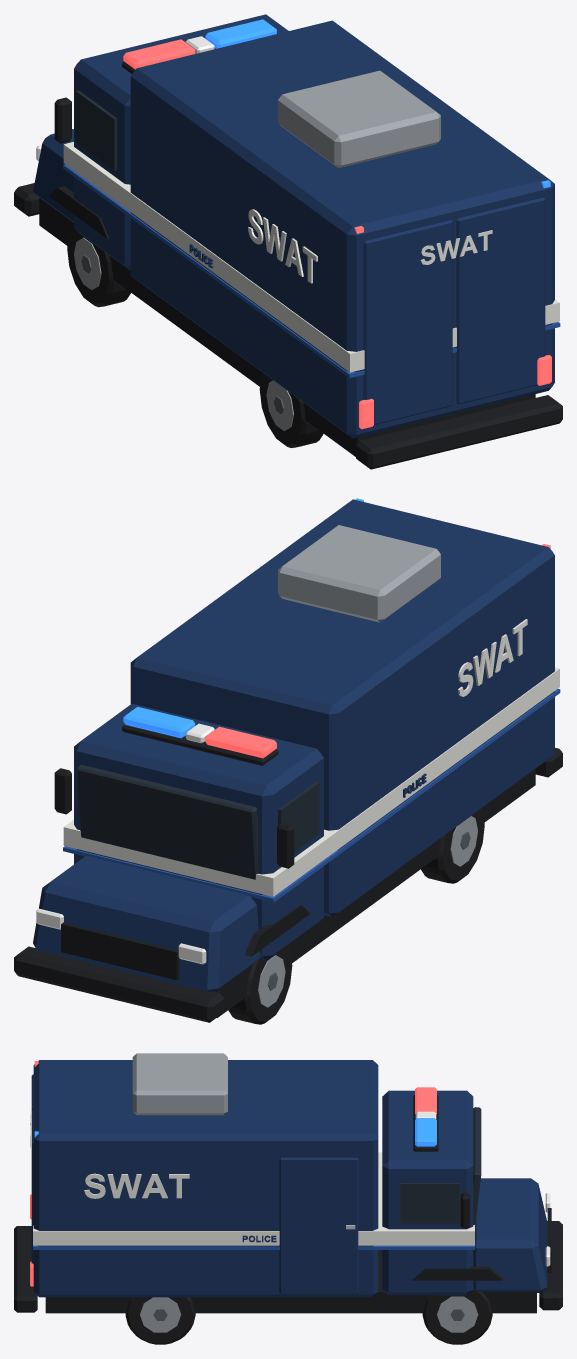
File: PD_SWAT_Van.fbx
3 views of the same model, one above another, from view 1: azimuth 30°, elevation 25°; view 2: azimuth 150°, elevation 25°; view 3: azimuth 270°, elevation 25° (orthographic). The views are drawn at different scales.
Visible parts, largest first — view 1: PD_SWAT_Van_Body, PD_SWAT_Van_Wheel_FL, PD_SWAT_Van_Wheel_RL; view 2: PD_SWAT_Van_Body, PD_SWAT_Van_Wheel_FL, PD_SWAT_Van_Wheel_RL; view 3: PD_SWAT_Van_Body, PD_SWAT_Van_Wheel_FR, PD_SWAT_Van_Wheel_RR.
Part boxes in pixels (left/top/right/bottom): PD_SWAT_Van_Body: left=14, top=14, right=562, bottom=469; PD_SWAT_Van_Wheel_FL: left=67, top=225, right=130, bottom=307; PD_SWAT_Van_Wheel_RL: left=259, top=373, right=323, bottom=447; PD_SWAT_Van_Body: left=14, top=498, right=562, bottom=1022; PD_SWAT_Van_Wheel_FL: left=228, top=945, right=292, bottom=1024; PD_SWAT_Van_Wheel_RL: left=421, top=808, right=484, bottom=883; PD_SWAT_Van_Body: left=14, top=1053, right=562, bottom=1313; PD_SWAT_Van_Wheel_FR: left=422, top=1288, right=492, bottom=1344; PD_SWAT_Van_Wheel_RR: left=125, top=1297, right=195, bottom=1344.
Size of the model in its own units: 2.66 by 3.34 by 6.93.
